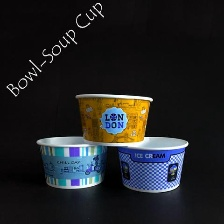paper_cup: (71, 88, 156, 148), (114, 131, 191, 195), (33, 130, 107, 191)
